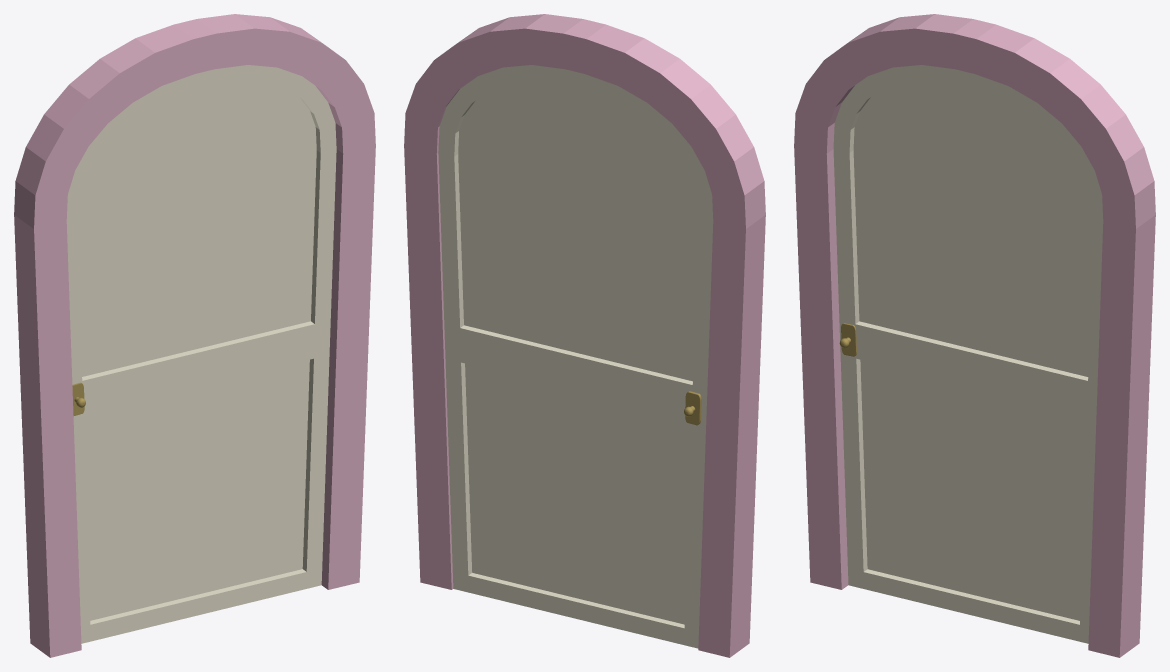
The model's file is puerta.fbx.
3 views of the same model, side by side, from view 1: azimuth 30°, elevation 25°; view 2: azimuth 150°, elevation 25°; view 3: azimuth 330°, elevation 25° (orthographic).
Parts seen in each view (by area): view 1: porta; view 2: porta; view 3: porta.
Part boxes in pixels (bbox=[...]): porta: bbox=[14, 14, 375, 657]; porta: bbox=[404, 14, 765, 657]; porta: bbox=[794, 14, 1155, 657].
Bounding box in the file's own units: 197 × 322 × 26.59.
